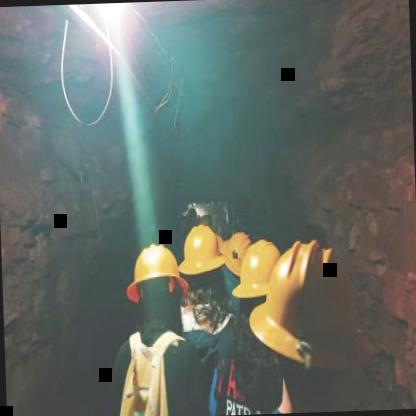helmet: (251, 236, 367, 404), (128, 235, 186, 334), (177, 217, 227, 300)
